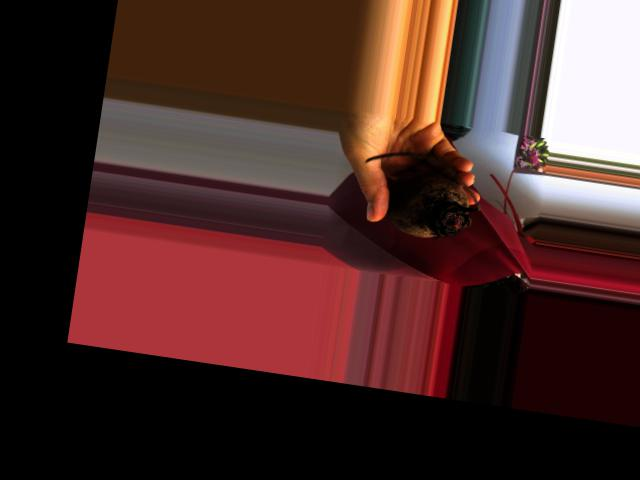beet: (356, 146, 488, 245)
